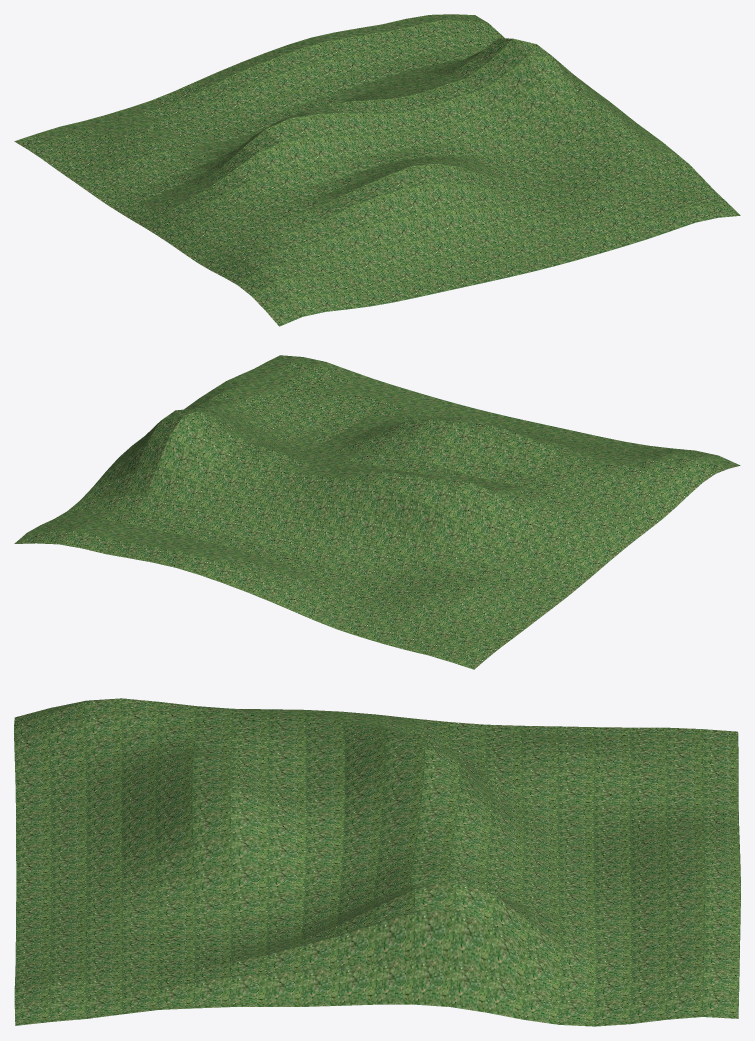
Rendered from LandScape.glb.
3 renders of one model, top to bottom at view 1: azimuth 30°, elevation 25°; view 2: azimuth 150°, elevation 25°; view 3: azimuth 270°, elevation 25°, orthographic. The views are drawn at different scales.
Parts seen in each view (by area): view 1: LandScapeMesh; view 2: LandScapeMesh; view 3: LandScapeMesh.
Boxes of the visible parts, left/top/right/bottom form: LandScapeMesh: left=14, top=14, right=740, bottom=326; LandScapeMesh: left=14, top=355, right=740, bottom=669; LandScapeMesh: left=14, top=698, right=740, bottom=1026.
Bounding box in the file's own units: 20.24 × 3.42 × 20.16.
1 material, 1 textured.
